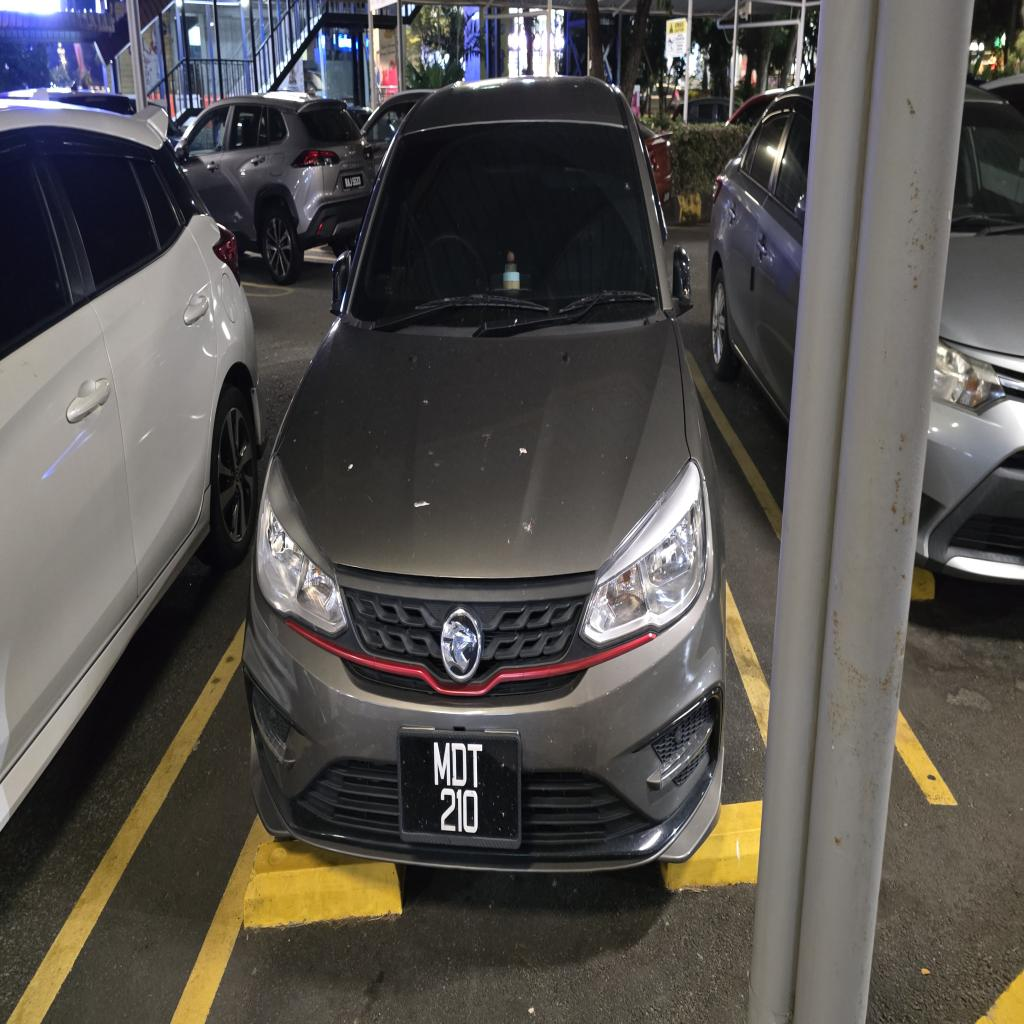car: (243, 77, 725, 869)
car plate: (398, 728, 521, 848)
